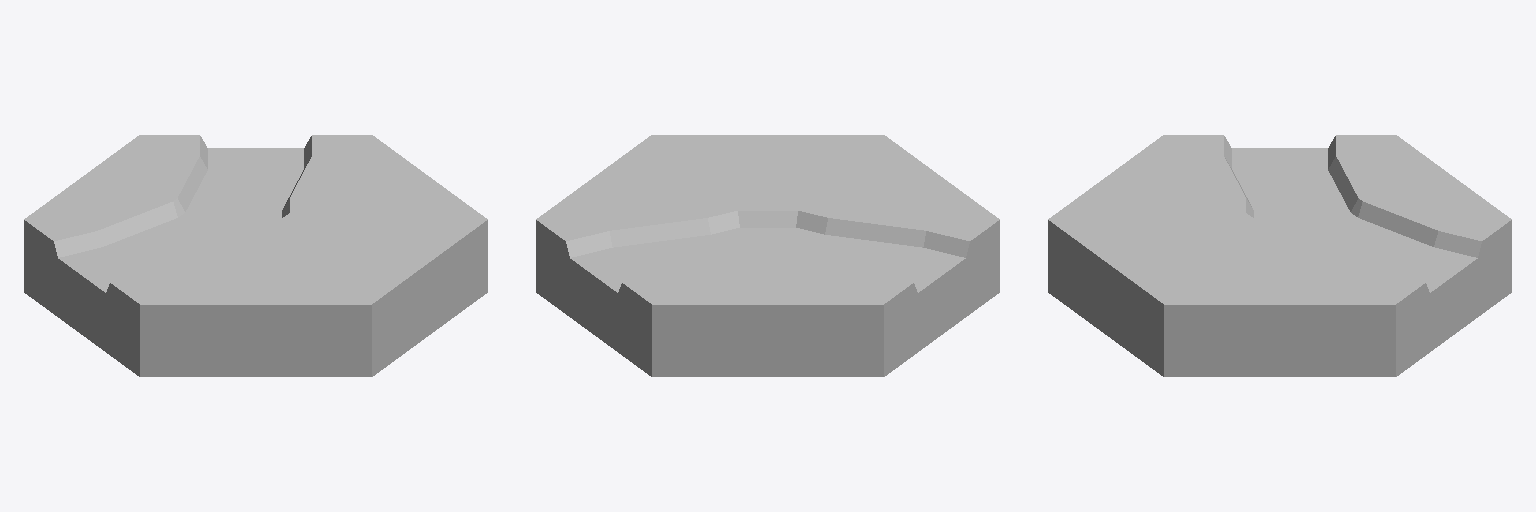
File: river_corner.obj
3 views of the same model, side by side, from view 1: azimuth 30°, elevation 25°; view 2: azimuth 150°, elevation 25°; view 3: azimuth 270°, elevation 25° (orthographic).
Parts seen in each view (by area): view 1: river_corner; view 2: river_corner; view 3: river_corner.
Boxes of the visible parts, x1=… form: river_corner: x1=24, y1=135, x2=487, y2=376; river_corner: x1=536, y1=135, x2=999, y2=376; river_corner: x1=1048, y1=135, x2=1511, y2=376.
Size of the model in its own units: 1 by 0.2 by 1.15.